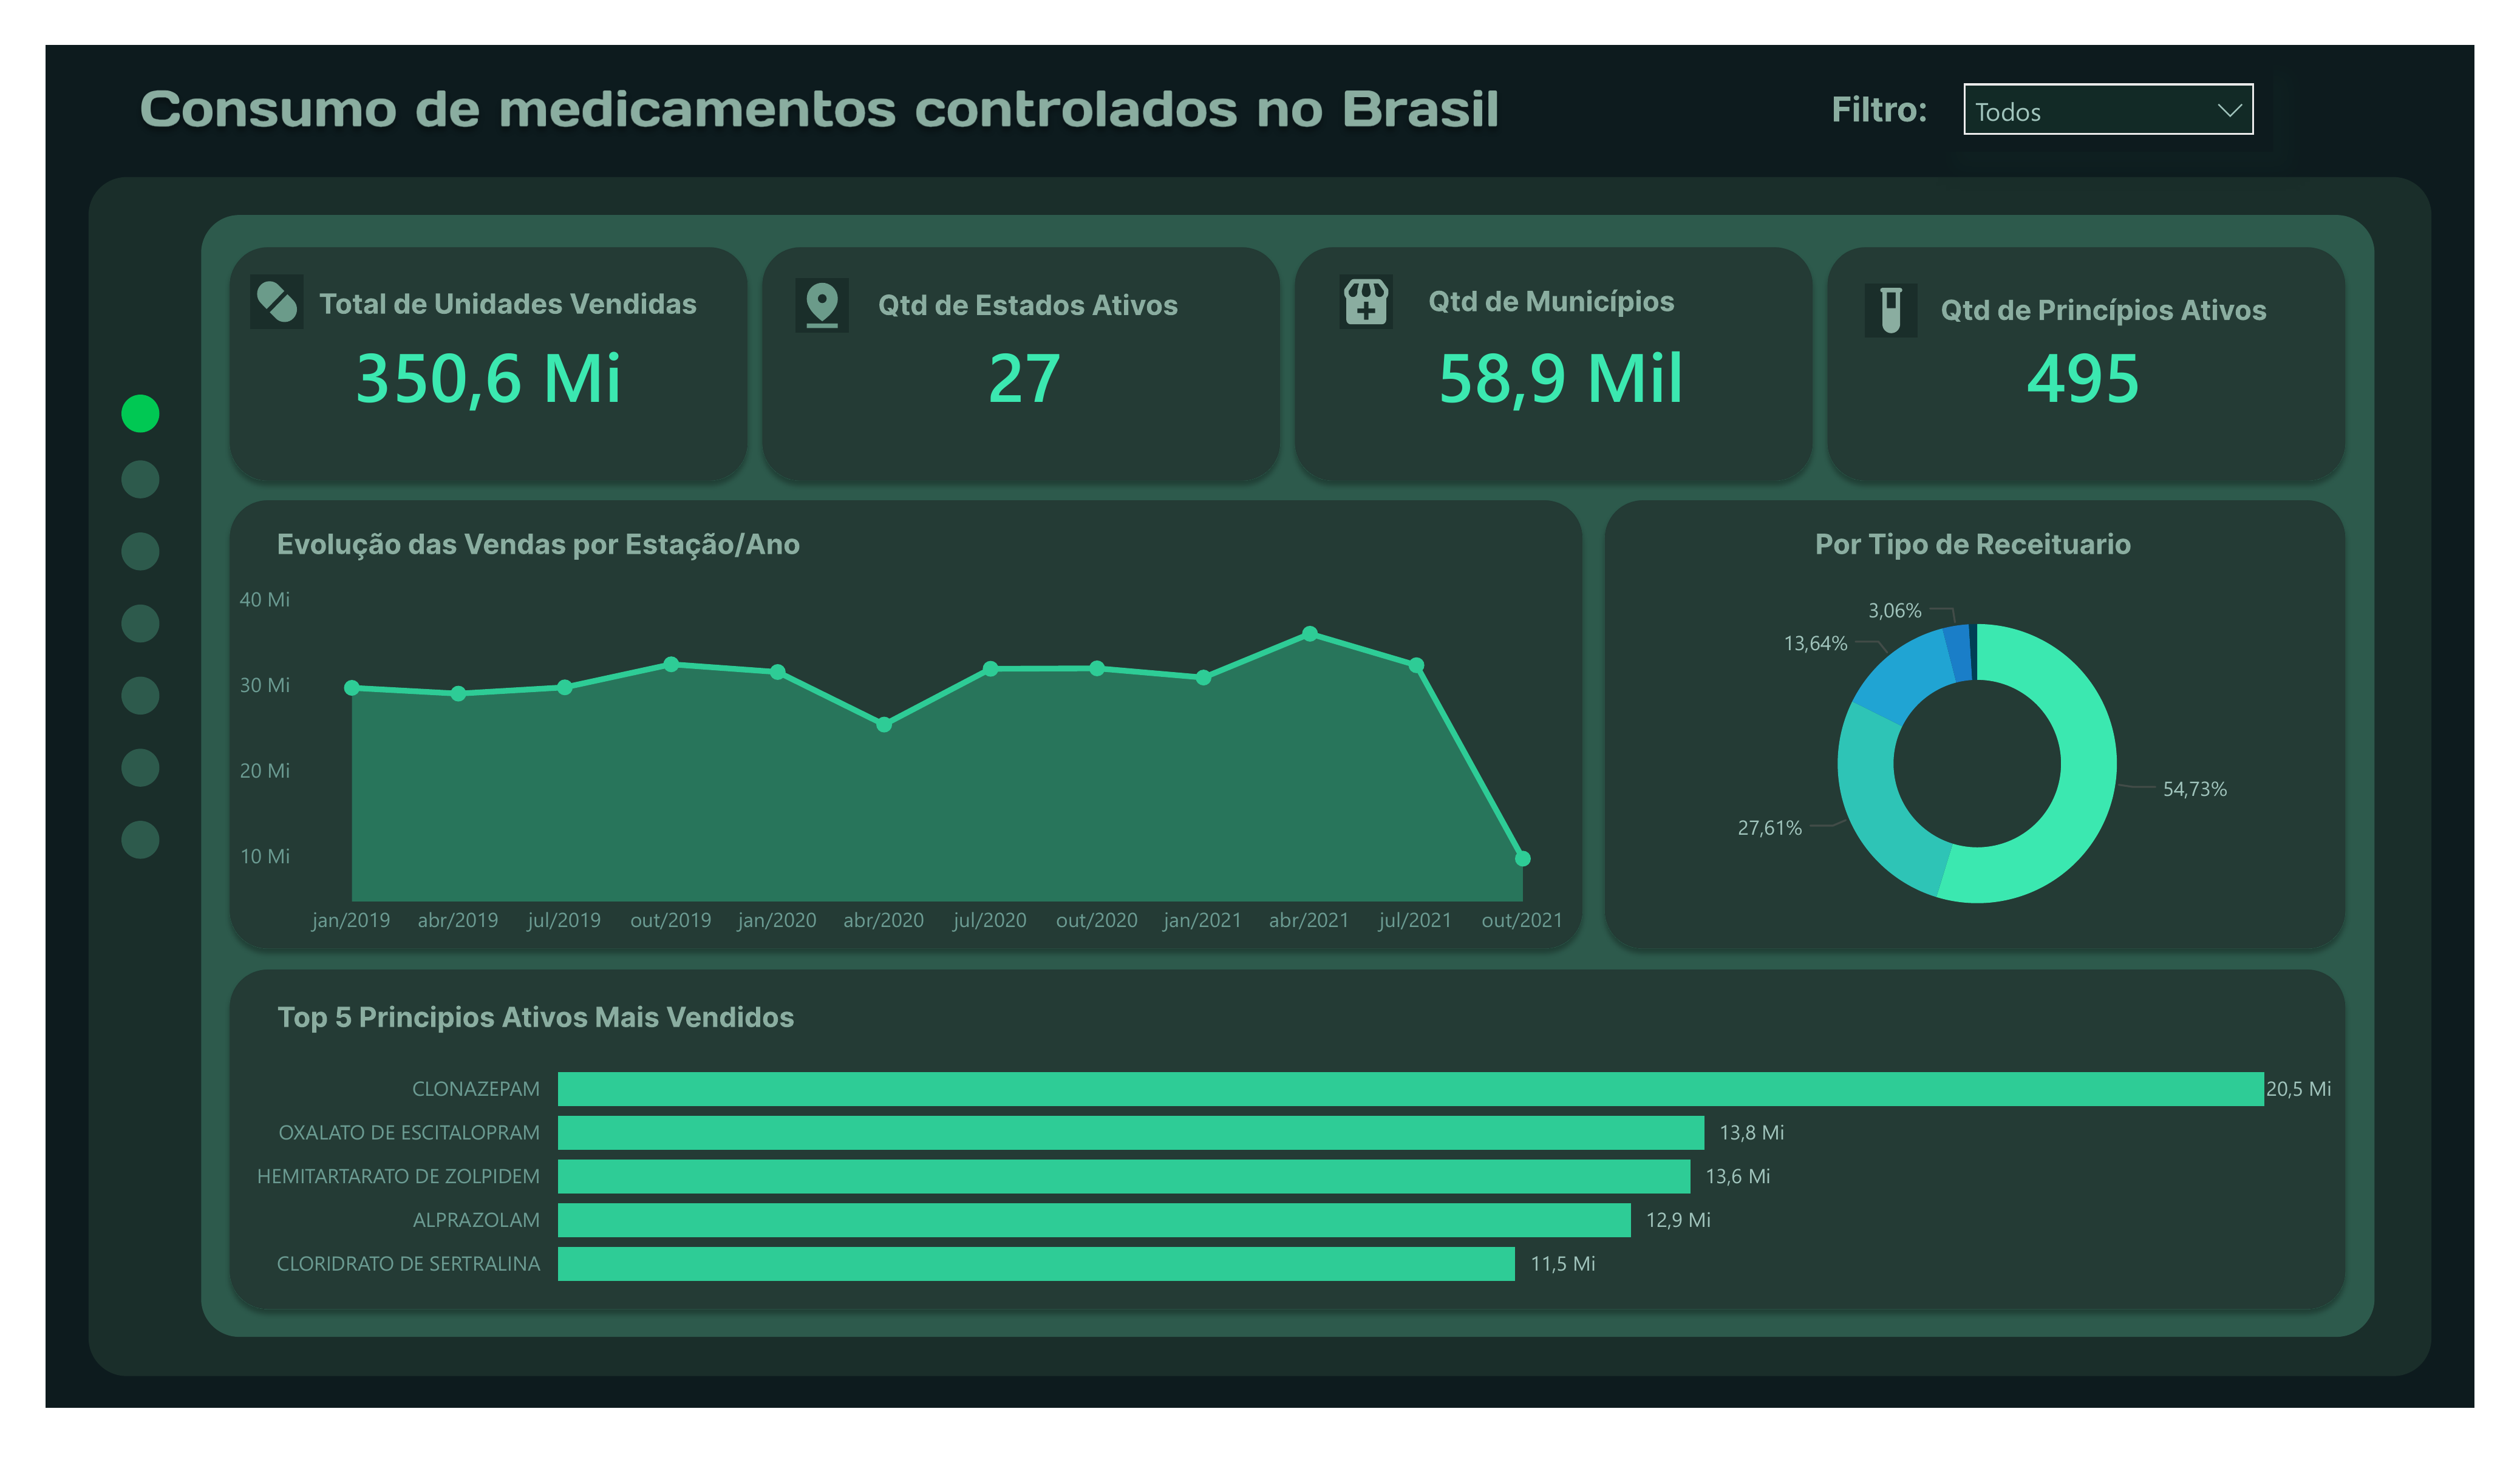

The dashboard page shown, as its layout file describes it:
{"tool":"powerbi","page":{"name":"Resumo","canvas":[1280,720],"ordinal":0},"visuals":[{"type":"cardVisual","fields":{"Data":["Sum(Vendas UF.Qtd Total Vendida)"]},"box":[96.7,106.7,273.3,130],"z":0},{"type":"cardVisual","fields":{"Data":["Count(Vendas UF.UF Venda)"]},"box":[378.6,107.1,274.3,130],"z":1000},{"type":"cardVisual","fields":{"Data":["Sum(Vendas UF.Qtd Municípios)"]},"box":[661.4,105.7,275.7,131.4],"z":2000},{"type":"cardVisual","fields":{"Data":["Max(Vendas UF.Qtd Principios Ativos)"]},"box":[937.1,107.1,275.7,130],"z":3000},{"type":"lineChart","fields":{"Y":["Sum(Vendas UF.Qtd Total Vendida)"],"Category":["Vendas UF.Periodo"]},"box":[97.3,278.2,711.8,200.9],"z":4000},{"type":"barChart","fields":{"Y":["Sum(Top Principios.Qtd Total Vendas)"],"Category":["Top Principios.Principio Ativo"]},"box":[94.3,518.6,1115.7,147.1],"z":5000},{"type":"donutChart","fields":{"Category":["Vendas Temporal.Receita"],"Y":["Sum(Vendas Temporal.Qtd Total Vendas)"]},"box":[822.7,278,390.7,200.7],"z":6000}]}

Visuals, with their boxes on the page's 1280x720 design canvas (x1, y1, x2, y2). These are canvas units, not pixel positions in the 2520x1457 screenshot, which may show the page scaled, cropped or inside an application window:
cardVisual - Sum(Vendas UF.Qtd Total Vendida): x1=97 y1=107 x2=370 y2=237
cardVisual - Count(Vendas UF.UF Venda): x1=379 y1=107 x2=653 y2=237
cardVisual - Sum(Vendas UF.Qtd Municípios): x1=661 y1=106 x2=937 y2=237
cardVisual - Max(Vendas UF.Qtd Principios Ativos): x1=937 y1=107 x2=1213 y2=237
lineChart - Sum(Vendas UF.Qtd Total Vendida) x Vendas UF.Periodo: x1=97 y1=278 x2=809 y2=479
barChart - Sum(Top Principios.Qtd Total Vendas) x Top Principios.Principio Ativo: x1=94 y1=519 x2=1210 y2=666
donutChart - Vendas Temporal.Receita x Sum(Vendas Temporal.Qtd Total Vendas): x1=823 y1=278 x2=1213 y2=479
